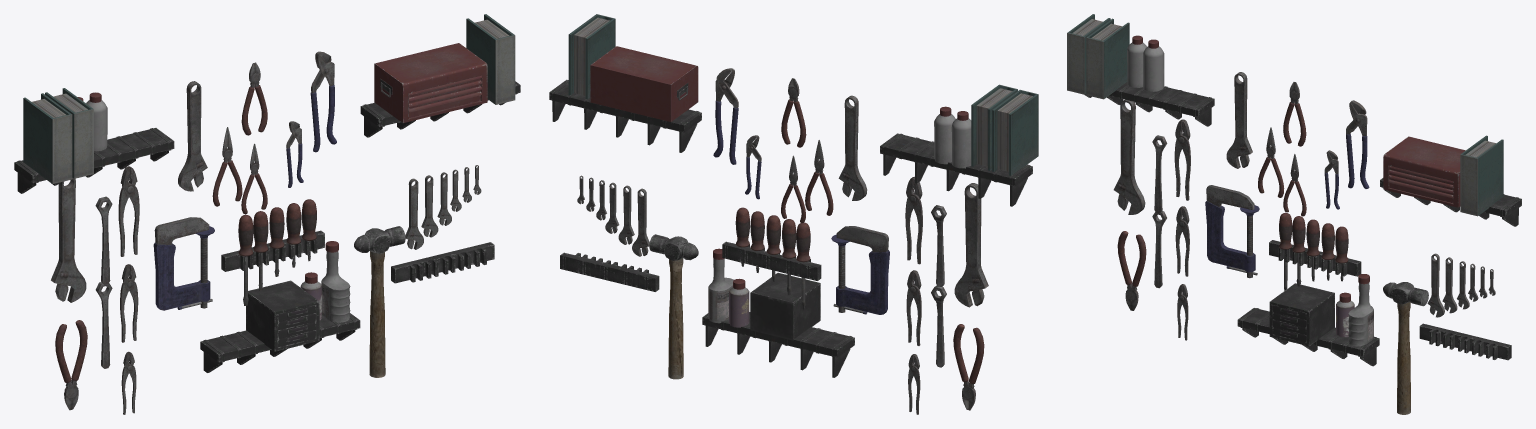
Rendered from 054_tools01a.fbx.
The picture shows the model from 3 angles, left to right: view 1: azimuth 30°, elevation 25°; view 2: azimuth 150°, elevation 25°; view 3: azimuth 330°, elevation 25°; orthographic projection. The views are drawn at different scales.
Parts seen in each view (by area): view 1: LOD_1_Group_0_Sub_1__sm36_054_Tools01A_A_Mat; view 2: LOD_1_Group_0_Sub_1__sm36_054_Tools01A_A_Mat; view 3: LOD_1_Group_0_Sub_1__sm36_054_Tools01A_A_Mat.
Boxes of the visible parts, x1,y1,x2,y2 form: LOD_1_Group_0_Sub_1__sm36_054_Tools01A_A_Mat: (14, 14, 520, 414); LOD_1_Group_0_Sub_1__sm36_054_Tools01A_A_Mat: (549, 14, 1038, 414); LOD_1_Group_0_Sub_1__sm36_054_Tools01A_A_Mat: (1067, 14, 1521, 414).
Size of the model in its own units: 2.38 by 1.69 by 0.2818.
